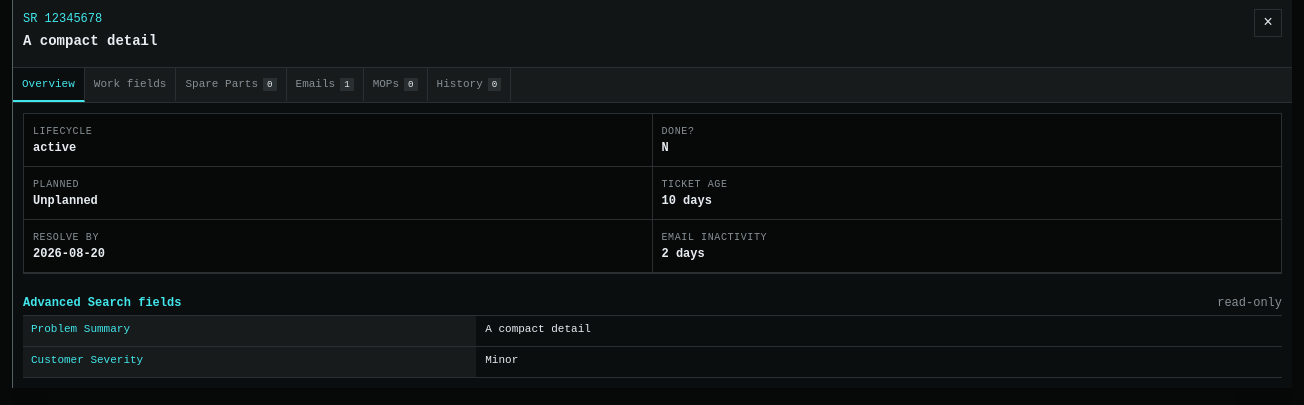
Test: TicketDetail › renders email content as escaped plain text and toggles full history
Click the button "Emails1".
click(325, 85)  # box [287,68,364,102]
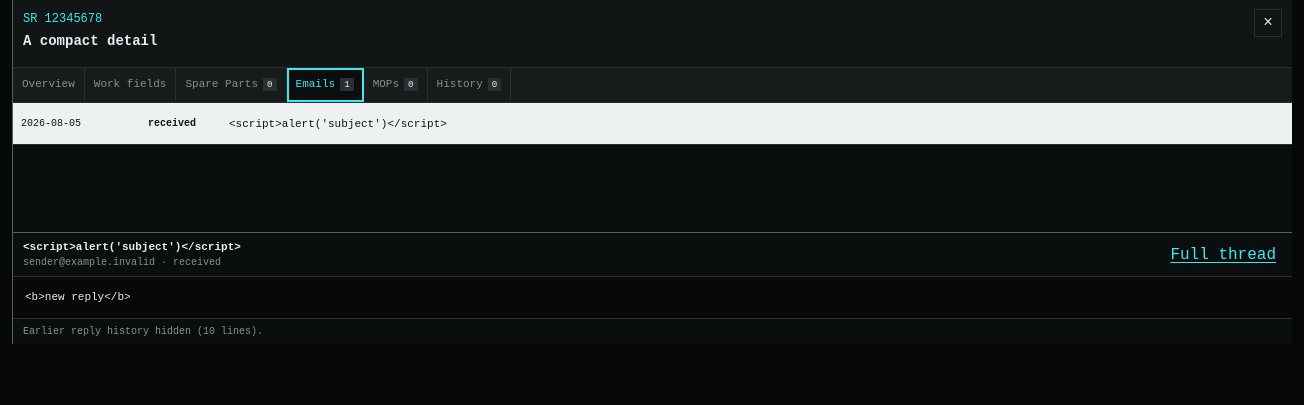
Expected: the text "<b>new reply</b>" is shown, [13,277,1292,318]
Click the button "Full thread".
click(1223, 254)  # box [1164,241,1282,268]
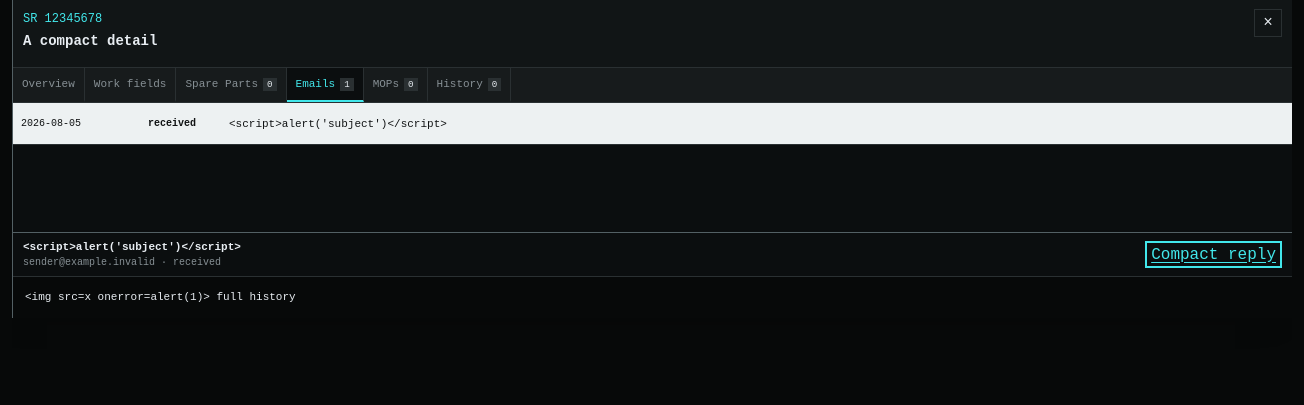
Expected: the text "<img src=x onerror=alert(1)> full history" is shown, [13,277,1292,318]
